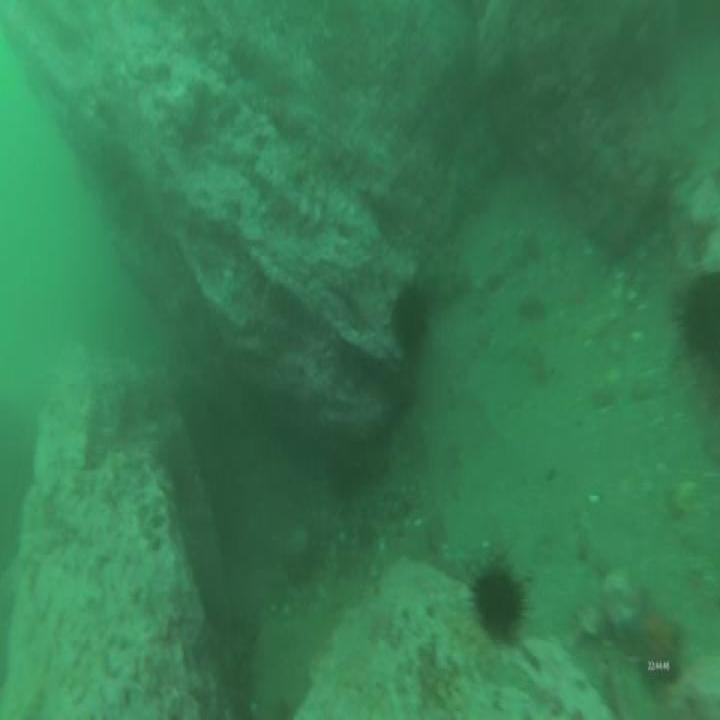echinus: (462, 546, 535, 650), (679, 266, 720, 369), (390, 279, 432, 359)
starfish: (617, 580, 689, 686)
